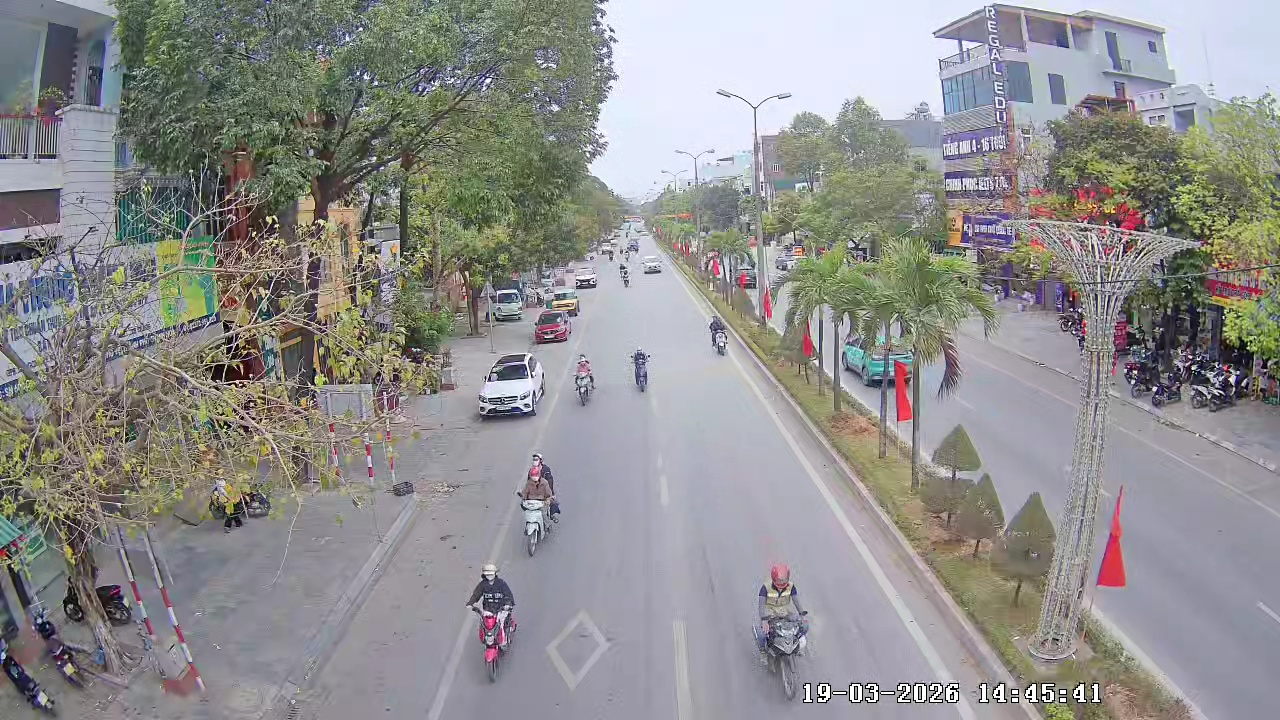car: (476, 352, 545, 419), (491, 283, 527, 323), (531, 309, 570, 345), (550, 285, 579, 317), (573, 264, 598, 291)
motorbike: (750, 562, 813, 700), (465, 561, 519, 683), (515, 452, 562, 558), (572, 354, 596, 406), (628, 346, 652, 394), (708, 315, 730, 357), (617, 263, 632, 289)
